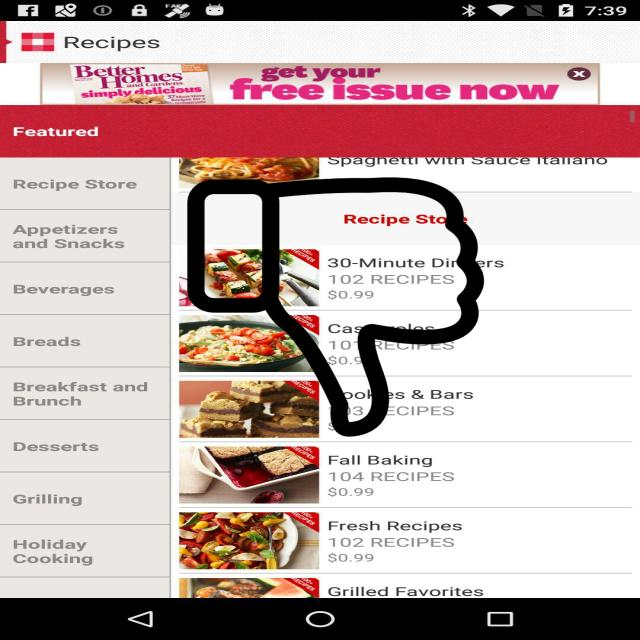obstruction: (183, 177, 488, 437)
